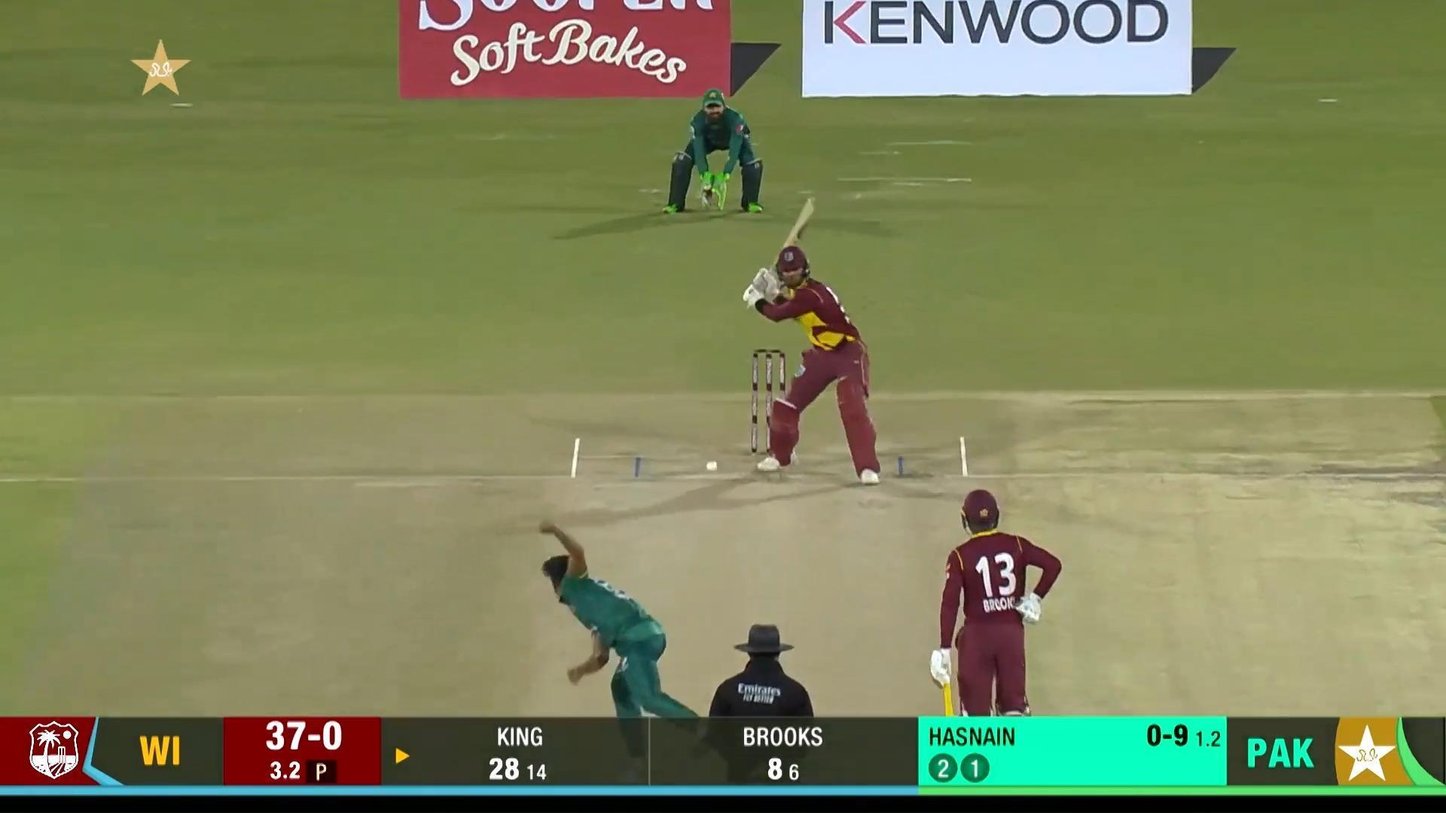BM 1: (743, 198, 881, 486)
BO: (539, 520, 699, 718)
